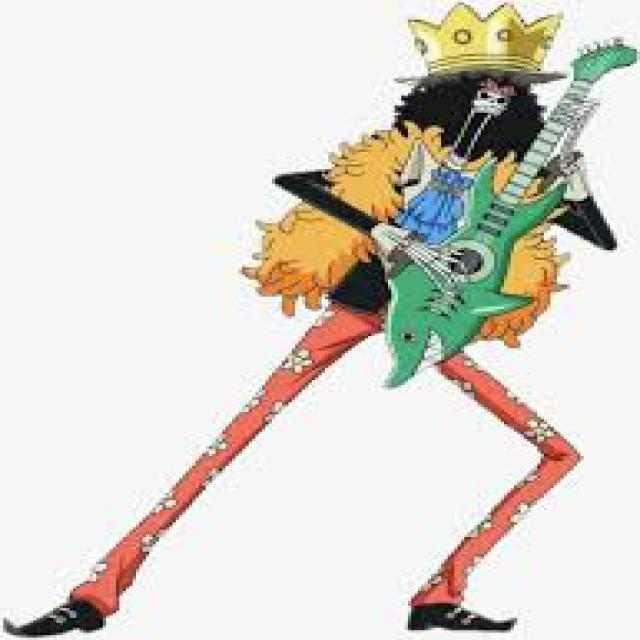Brook: (70, 2, 640, 633)
